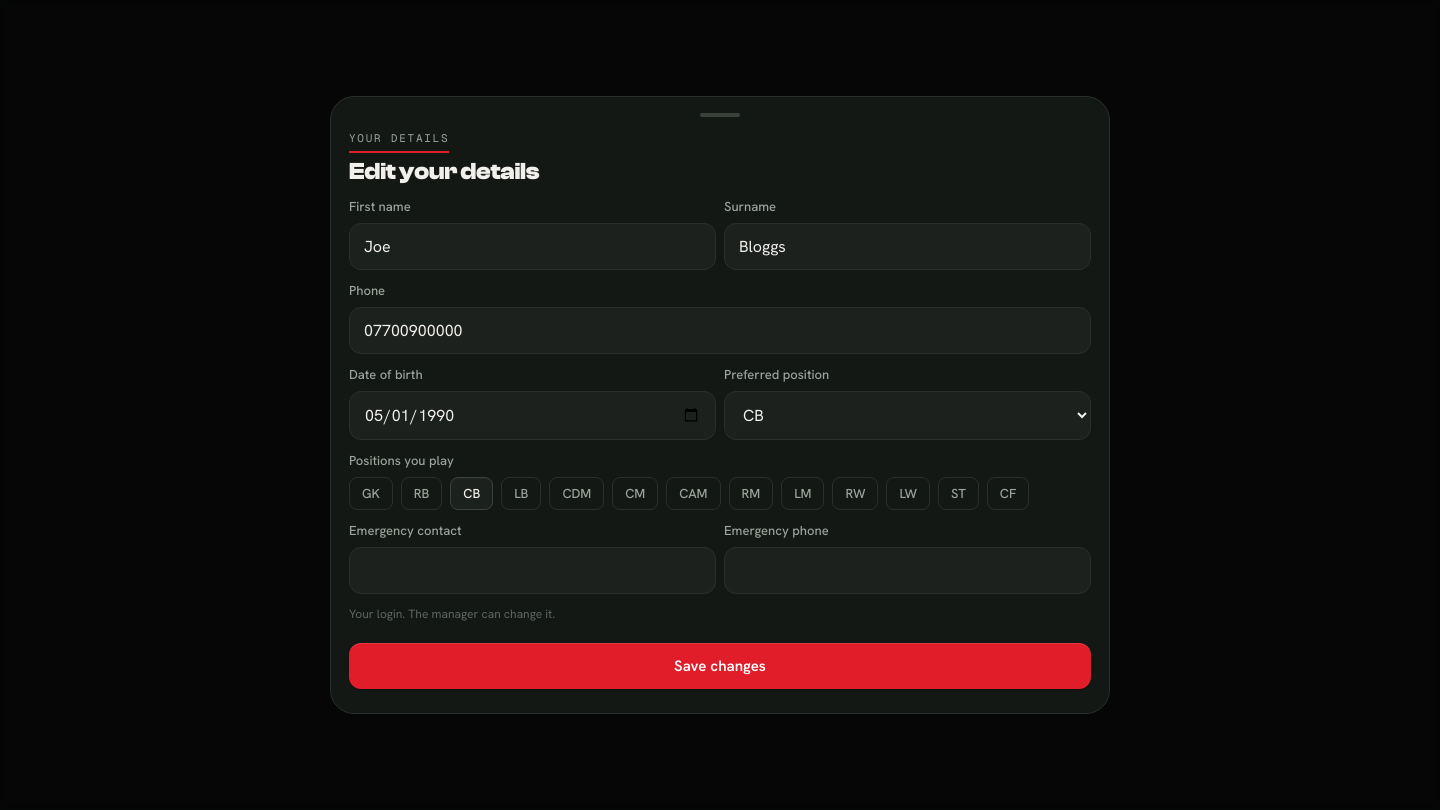
it: ProfileEdit (player self-edit) › a required field cleared blocks the save (no write)
Step 1. Clear the field showing "Joe" below "First name" → (532,247), box [349, 223, 716, 270]
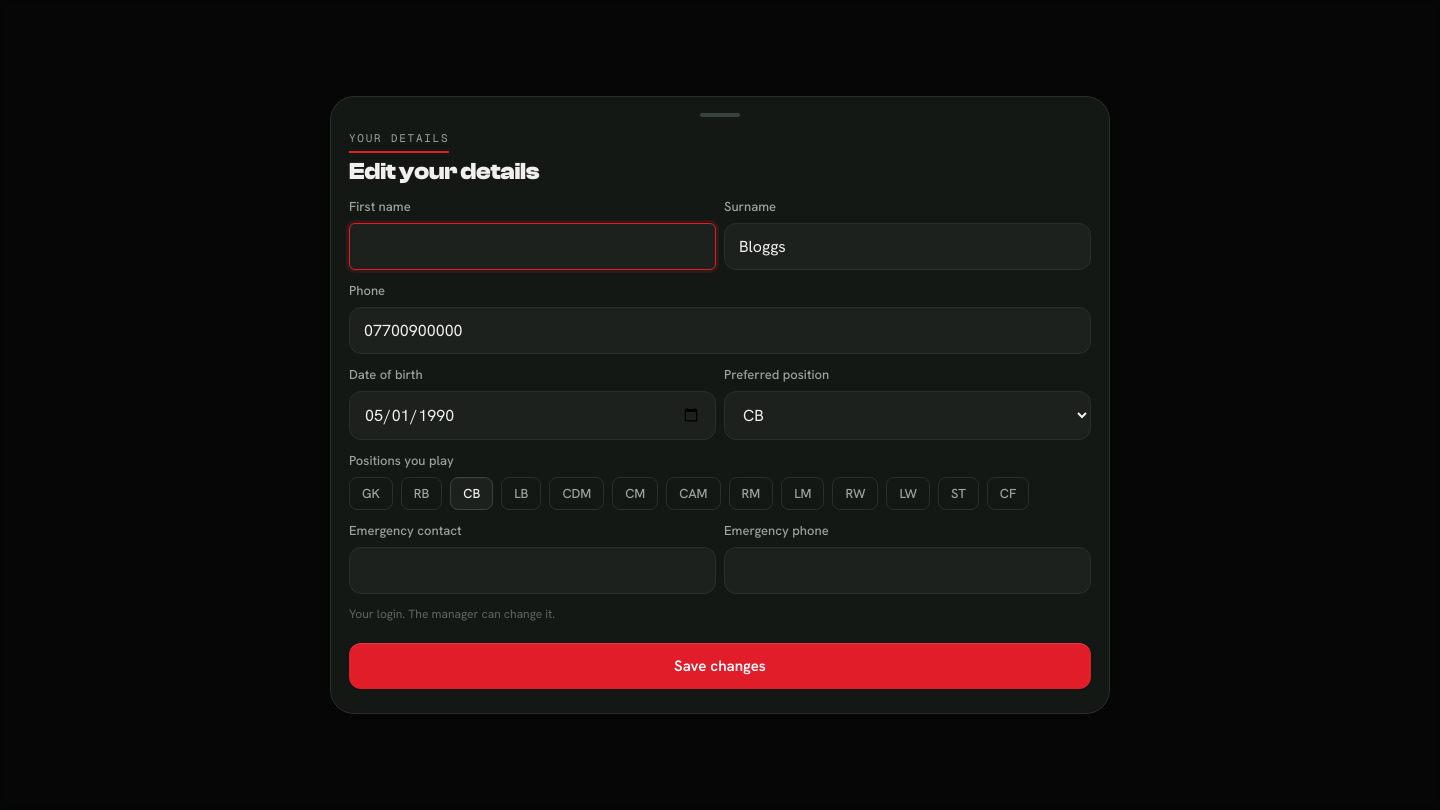
Step 2. Click the button "Save changes" → (720,666), box [349, 643, 1091, 689]
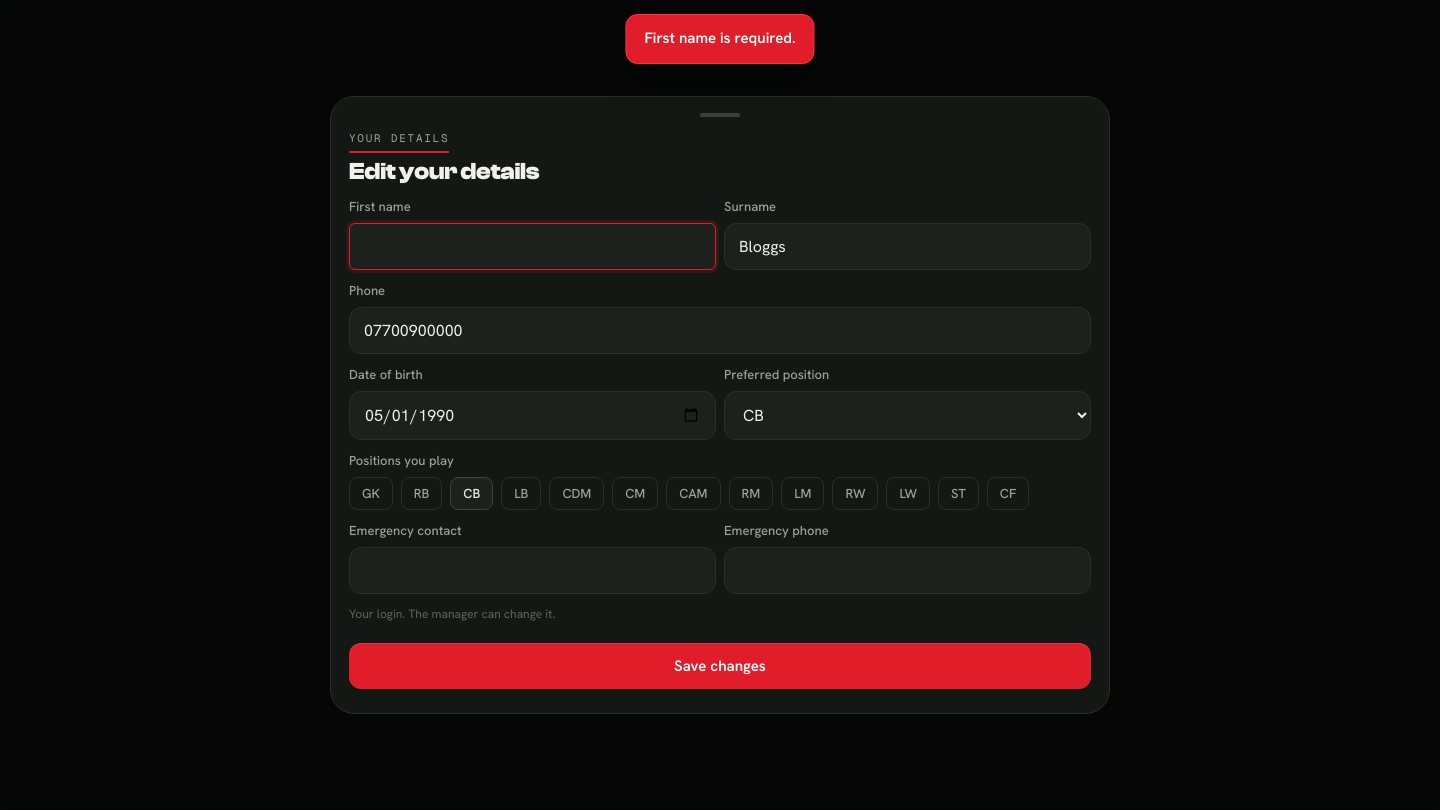
Expected: the message "First name is required." is shown, [626, 14, 815, 64]
